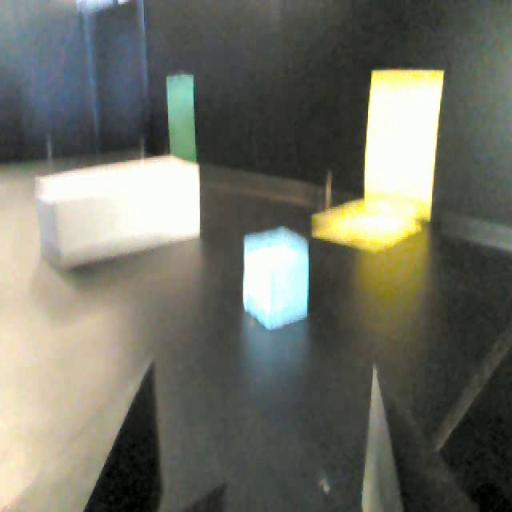cube: (234, 222, 317, 329)
